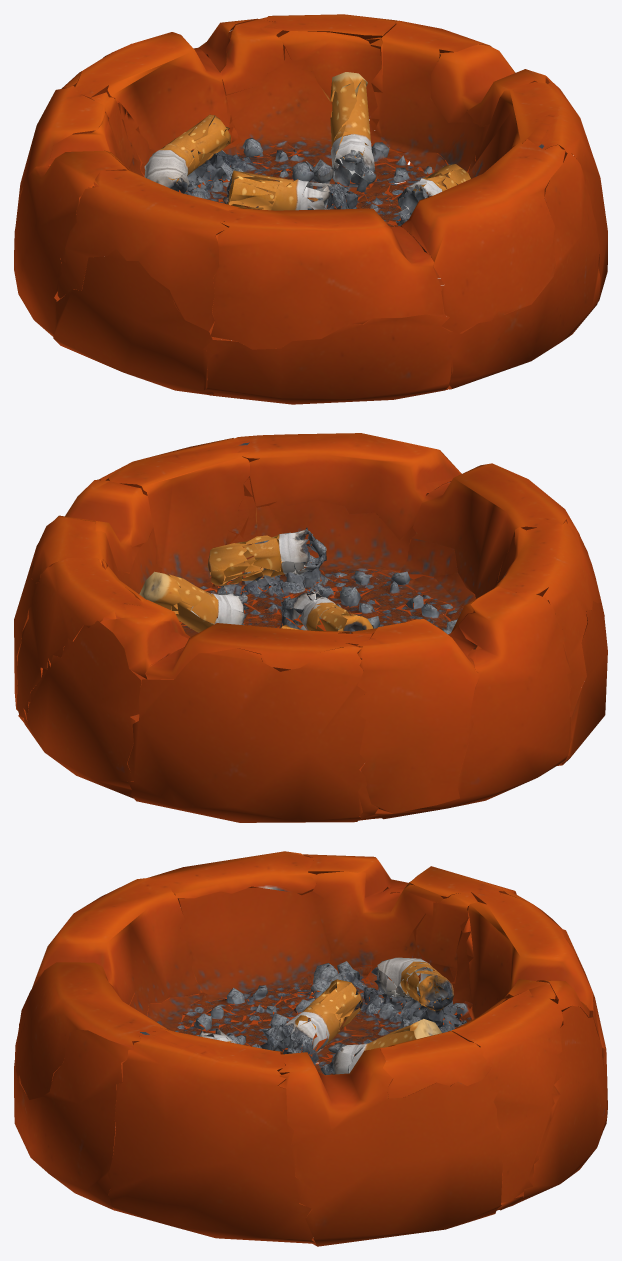
The model's file is kulluk.glb.
3 renders of one model, top to bottom at view 1: azimuth 30°, elevation 25°; view 2: azimuth 150°, elevation 25°; view 3: azimuth 270°, elevation 25°, orthographic.
Visible parts, largest first — view 1: Mesh_0; view 2: Mesh_0; view 3: Mesh_0.
Boxes of the visible parts, x1,y1,x2,y2 form: Mesh_0: (14,14,607,404); Mesh_0: (14,433,607,822); Mesh_0: (14,851,607,1246).
Bounding box in the file's own units: 0.1437 × 0.045 × 0.1427.
1 material, 1 textured.
